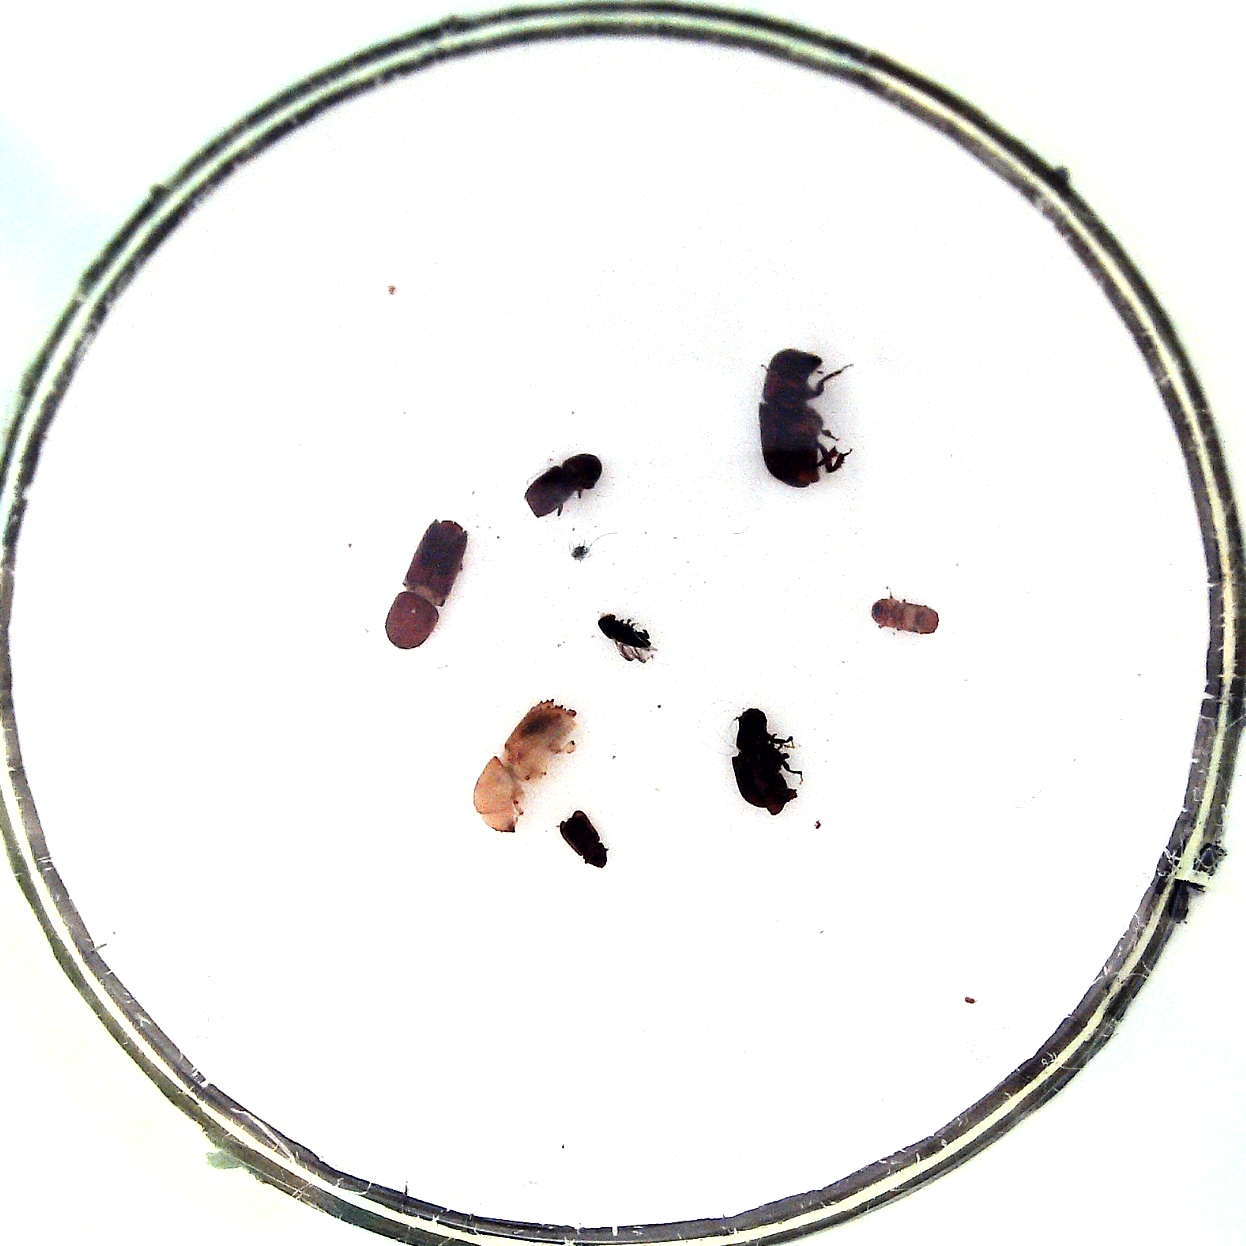Boerner: (474, 699, 577, 833), (385, 518, 468, 649)
Leconte: (759, 348, 823, 489)
acuminatus: (598, 614, 650, 652)
armandi: (731, 709, 798, 816)
coleoptera: (871, 596, 939, 636), (560, 810, 606, 868)
linnaeus: (523, 453, 602, 518)
